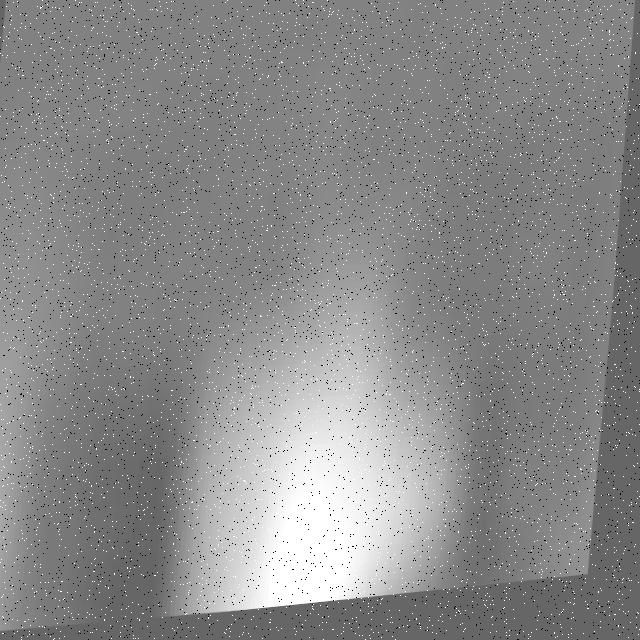person: (171, 233, 536, 624)
